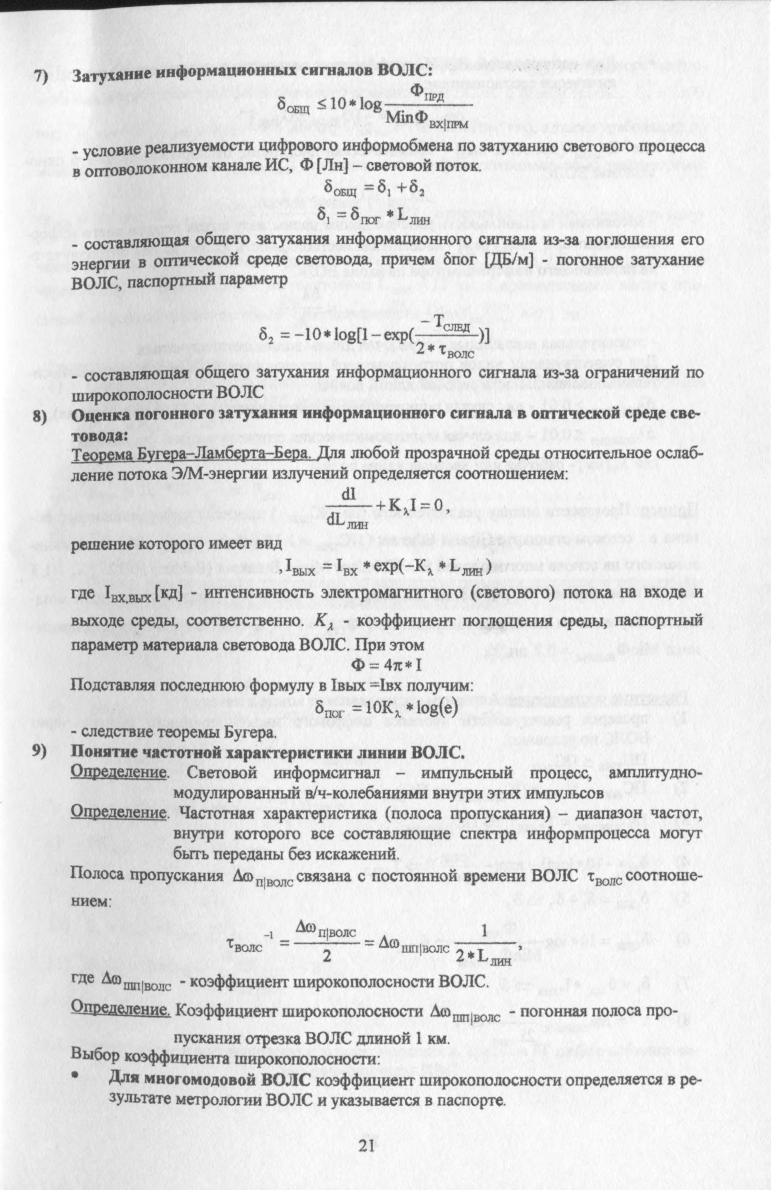L.лин: (477, 945, 511, 968), (396, 206, 430, 227)
T.след: (433, 308, 472, 332)
group: (254, 302, 494, 361), (289, 916, 516, 969), (218, 911, 362, 968)
Δω.п.волс: (295, 915, 357, 941)
Δω.шп.волс: (377, 932, 450, 957)
δ.1: (313, 204, 331, 228), (377, 176, 392, 199)
δ.2: (257, 321, 275, 346), (409, 177, 427, 196)
δ.общ: (321, 177, 360, 199)
δ.пог: (315, 696, 345, 722), (346, 208, 385, 227)
τ.волс: (220, 932, 263, 955), (436, 340, 478, 362)
